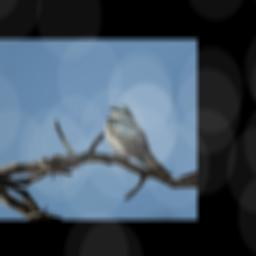Swallow: (95, 101, 186, 179)
